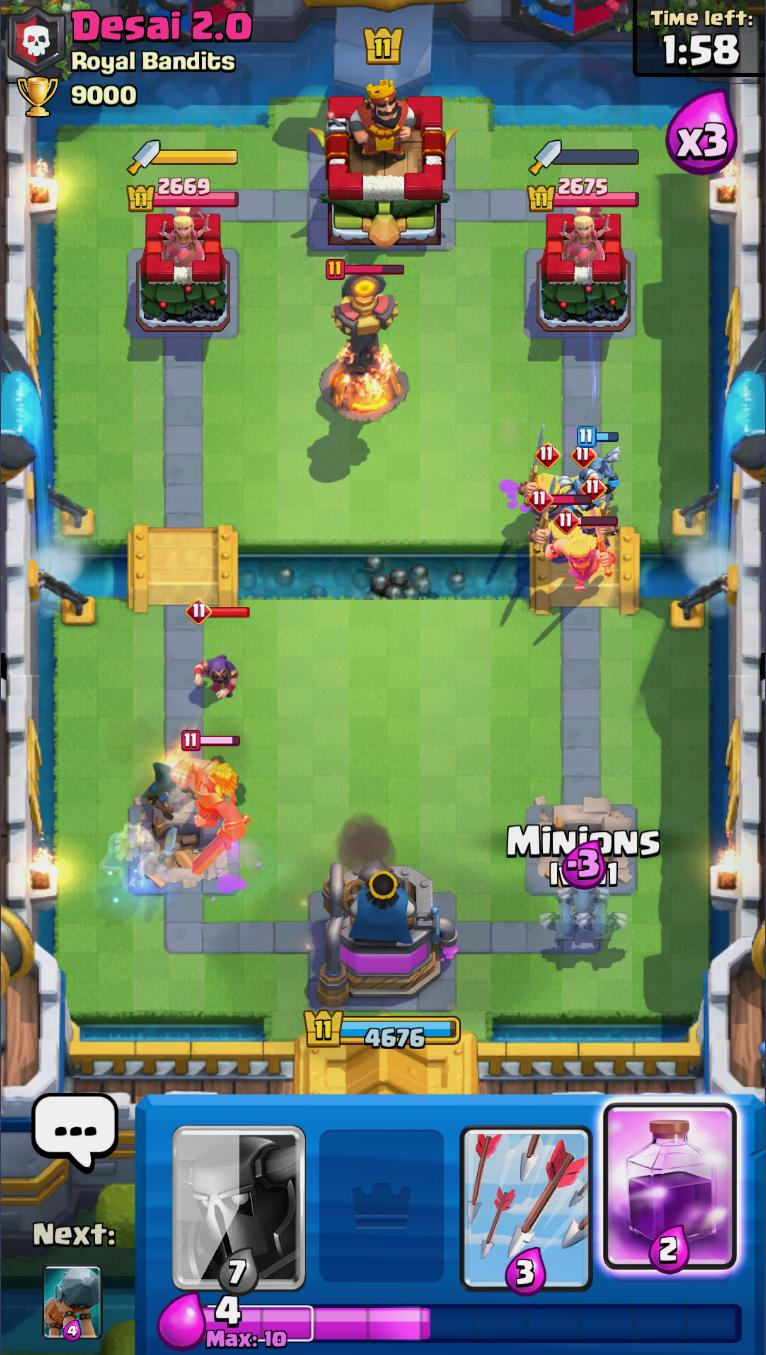ArrowDeck: (454, 1096, 600, 1296)
BattleRamNext: (41, 1264, 103, 1343)
DaggerDuchess: (157, 206, 210, 266), (557, 206, 611, 264)
Daggers: (126, 140, 240, 176), (531, 139, 640, 173)
Elixir: (203, 1294, 744, 1351)
Empty: (313, 1099, 451, 1297)
EnemyTower: (136, 214, 234, 334), (539, 211, 633, 333)
EvoBarbarian: (541, 510, 621, 591), (514, 427, 573, 503), (566, 477, 623, 539), (526, 487, 591, 541)
EvoWizard: (183, 596, 249, 701)
GoldenKnight: (179, 729, 251, 877)
Inferno: (317, 257, 410, 426)
KingTower: (320, 74, 451, 251)
MyBandit: (146, 759, 184, 821)
MyKingHP: (304, 1009, 461, 1050)
MyKingTower: (314, 851, 460, 1011)
MyMinion: (574, 424, 623, 493), (559, 467, 607, 517)
MyPrincessTowerBrocken: (124, 796, 240, 893), (527, 794, 641, 891)
MyRoyaleGhost: (99, 820, 177, 899)
PekkaDeck: (166, 1096, 311, 1294)
RageDeck: (597, 1094, 741, 1299)
TowerPrincessHP: (127, 174, 240, 210), (530, 176, 641, 210)
